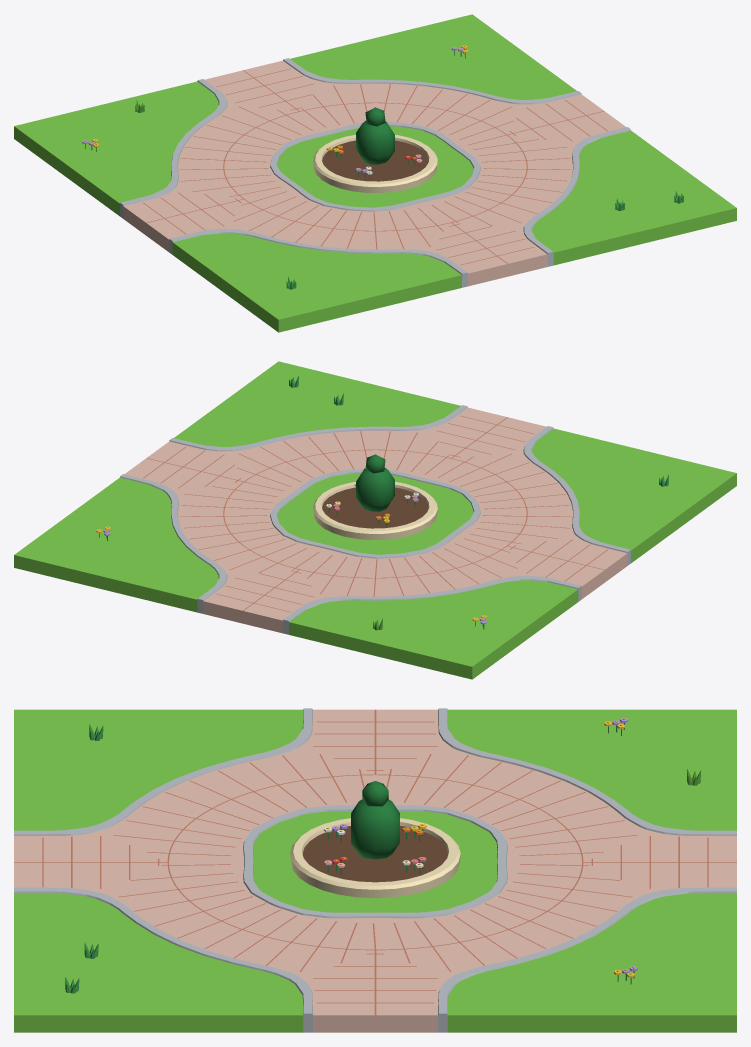
File: caminho_parque_rotatoria.glb
3 renders of one model, top to bottom at view 1: azimuth 30°, elevation 25°; view 2: azimuth 150°, elevation 25°; view 3: azimuth 270°, elevation 25°, orthographic. The views are drawn at different scales.
Visible parts, largest first — view 1: caminho_parque_rotatoria; view 2: caminho_parque_rotatoria; view 3: caminho_parque_rotatoria.
Boxes of the visible parts, bbox=[...] form: caminho_parque_rotatoria: bbox=[14, 14, 736, 332]; caminho_parque_rotatoria: bbox=[14, 361, 736, 679]; caminho_parque_rotatoria: bbox=[14, 708, 736, 1032].
Size of the model in its own units: 15 by 2.27 by 15.
Materials: 1 (1 with a texture image).
